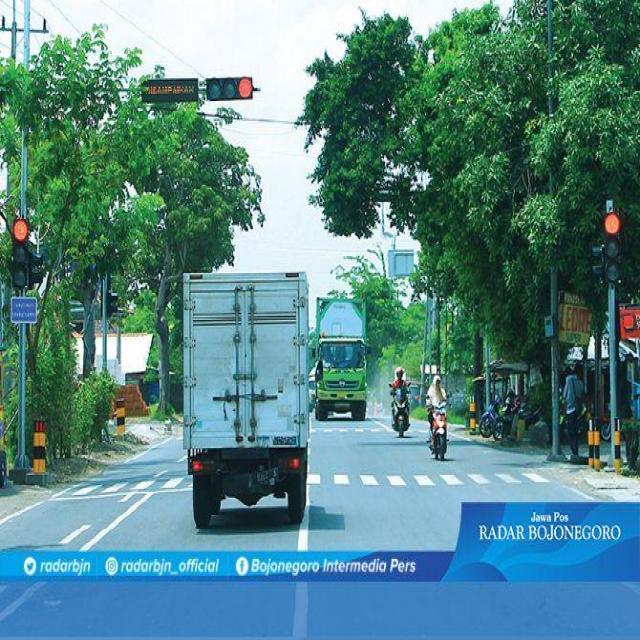red_light: (206, 76, 254, 103), (603, 208, 619, 288), (13, 220, 28, 288)
